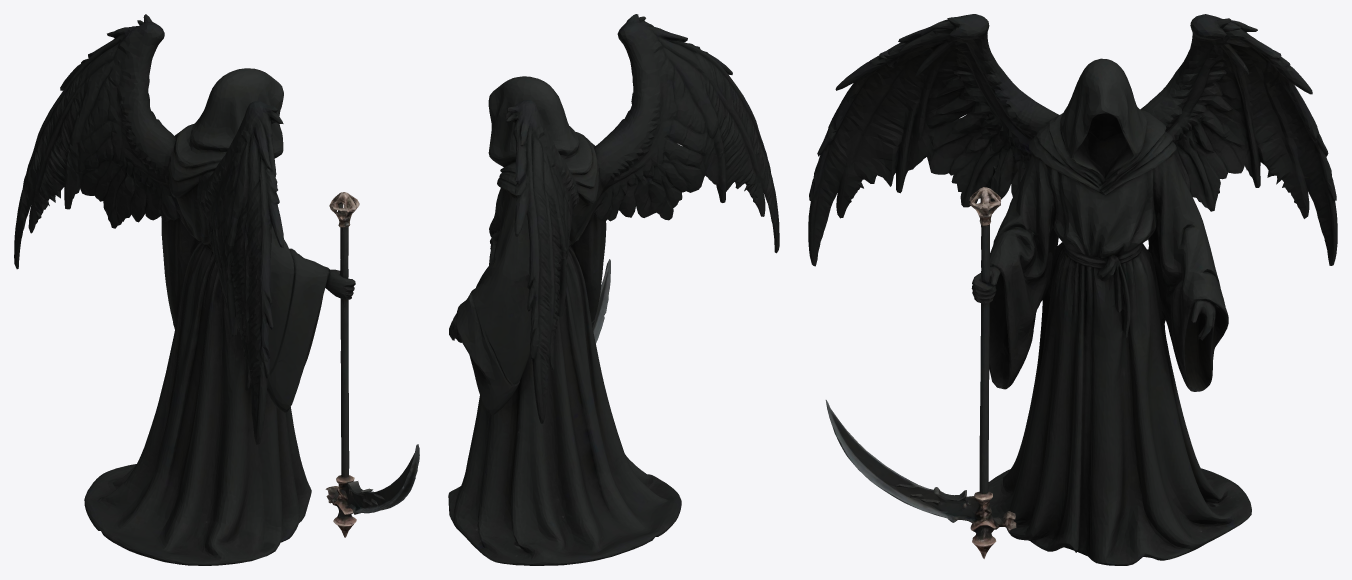
Rendered from grim_reaper_faceless_death_black_wings_poly.glb.
The picture shows the model from 3 angles, left to right: view 1: azimuth 30°, elevation 25°; view 2: azimuth 150°, elevation 25°; view 3: azimuth 270°, elevation 25°; orthographic projection. The views are drawn at different scales.
Parts seen in each view (by area): view 1: tripo_node_6d8a1f6e; view 2: tripo_node_6d8a1f6e; view 3: tripo_node_6d8a1f6e.
Part boxes in pixels (left/top/right/bottom): tripo_node_6d8a1f6e: left=14, top=14, right=419, bottom=565; tripo_node_6d8a1f6e: left=448, top=14, right=779, bottom=565; tripo_node_6d8a1f6e: left=808, top=14, right=1337, bottom=565.
Bounding box in the file's own units: 0.4571 × 1 × 0.9656.
Materials: 1 (1 with a texture image).
